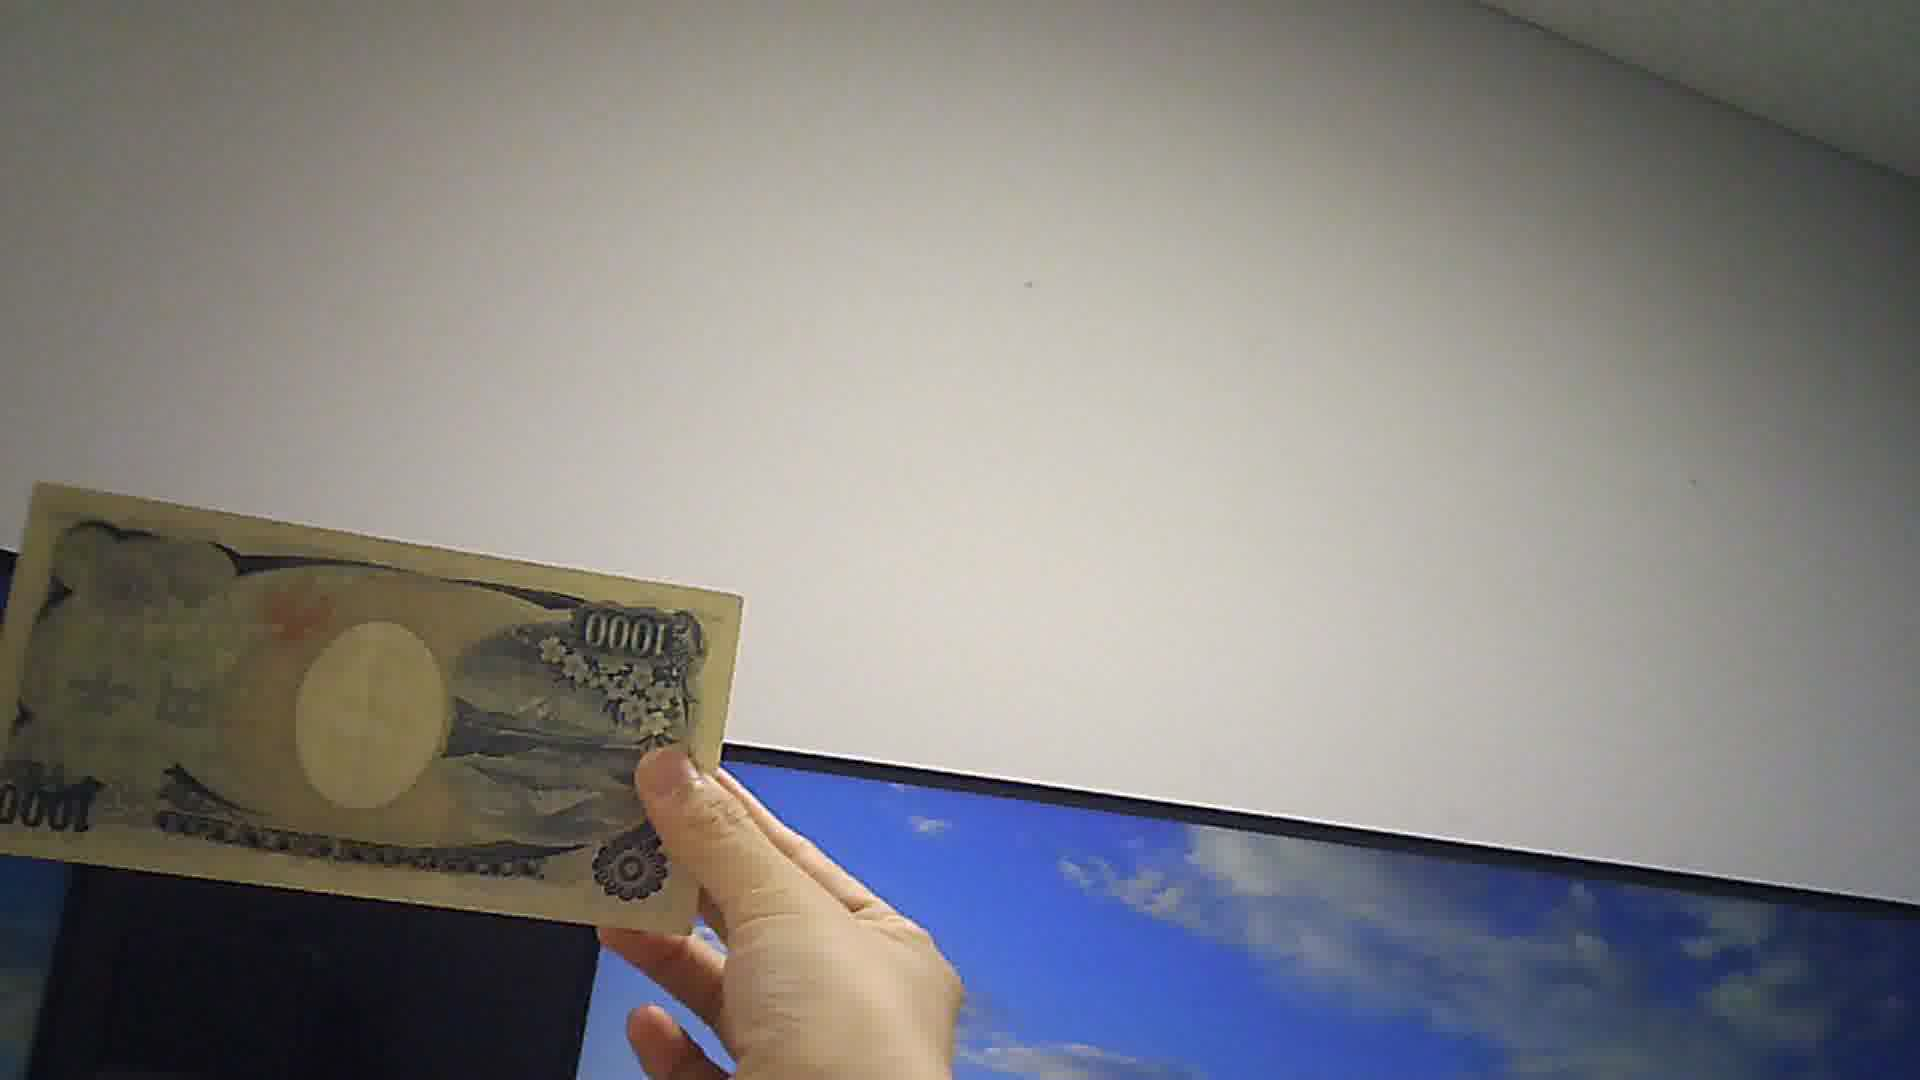1,000 Yen: (3, 473, 727, 943)
